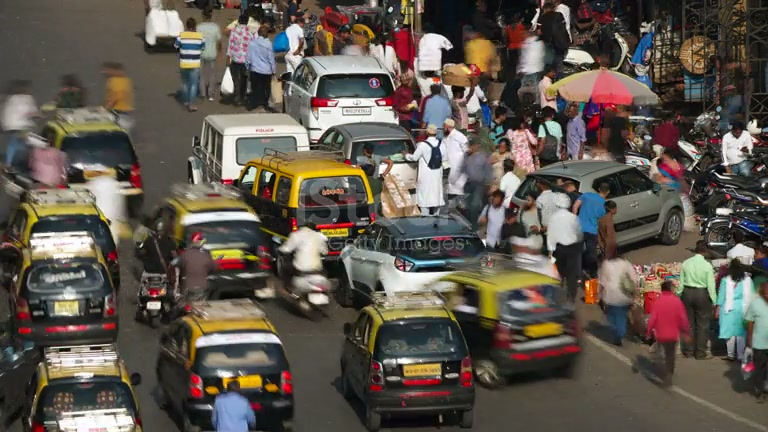car: (338, 214, 583, 389), (336, 294, 476, 430), (154, 299, 295, 431), (138, 182, 277, 300), (233, 151, 379, 262), (515, 158, 687, 251), (337, 214, 490, 310), (13, 237, 120, 353), (1, 199, 121, 293), (46, 112, 144, 227), (282, 54, 400, 141), (24, 349, 144, 431), (187, 113, 312, 187), (313, 121, 417, 171)
motorcycle: (271, 254, 332, 320), (702, 195, 768, 255), (134, 271, 173, 327)
pedestrian: (644, 278, 691, 385), (597, 244, 644, 347), (679, 241, 718, 361), (545, 193, 585, 306), (169, 231, 218, 320), (275, 219, 332, 295), (715, 258, 753, 363), (409, 126, 446, 217), (743, 278, 768, 398), (246, 21, 276, 114), (99, 62, 137, 135), (175, 16, 205, 108), (212, 377, 257, 432), (721, 117, 754, 166)
